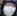with_mask: (1, 2, 17, 16)
